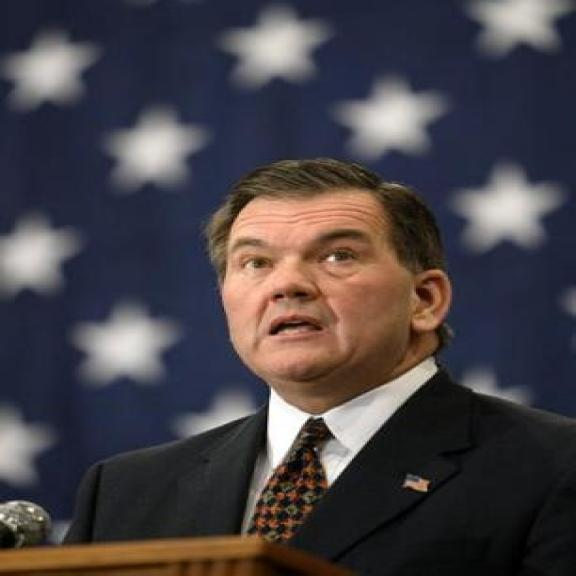face: (228, 204, 458, 391)
